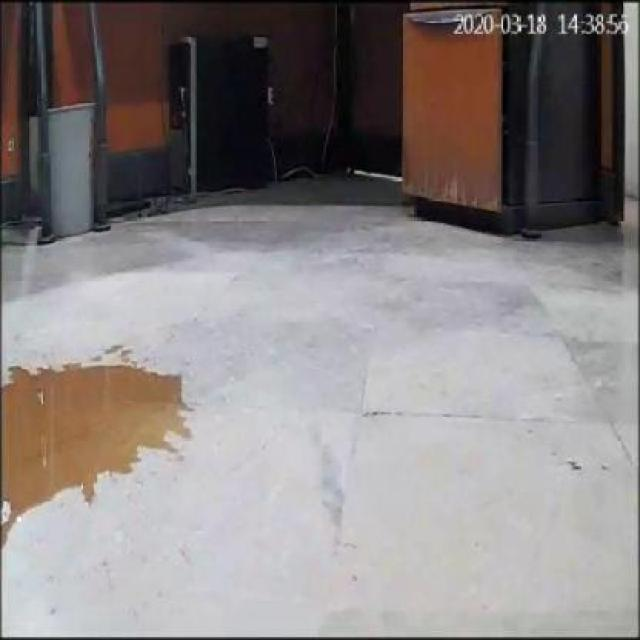spillage: (2, 366, 187, 517)
